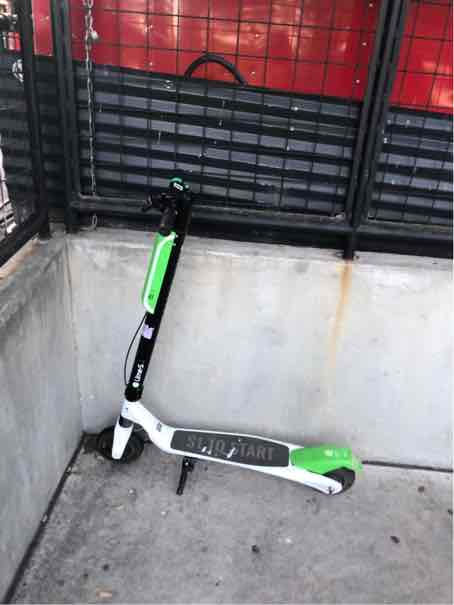scooter: (96, 161, 366, 508)
